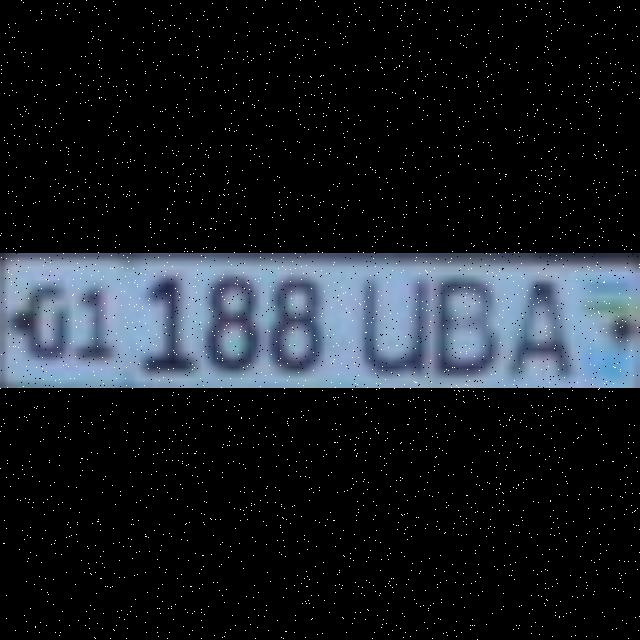0: (24, 276, 64, 352)
1: (134, 270, 188, 370), (64, 282, 106, 352)
8: (200, 270, 252, 364), (264, 270, 312, 364)
A: (499, 270, 569, 370)
B: (428, 270, 494, 370)
U: (353, 270, 423, 370)
